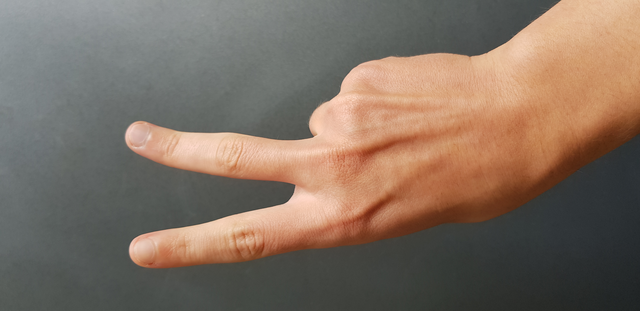Scissors: (96, 37, 565, 272)
